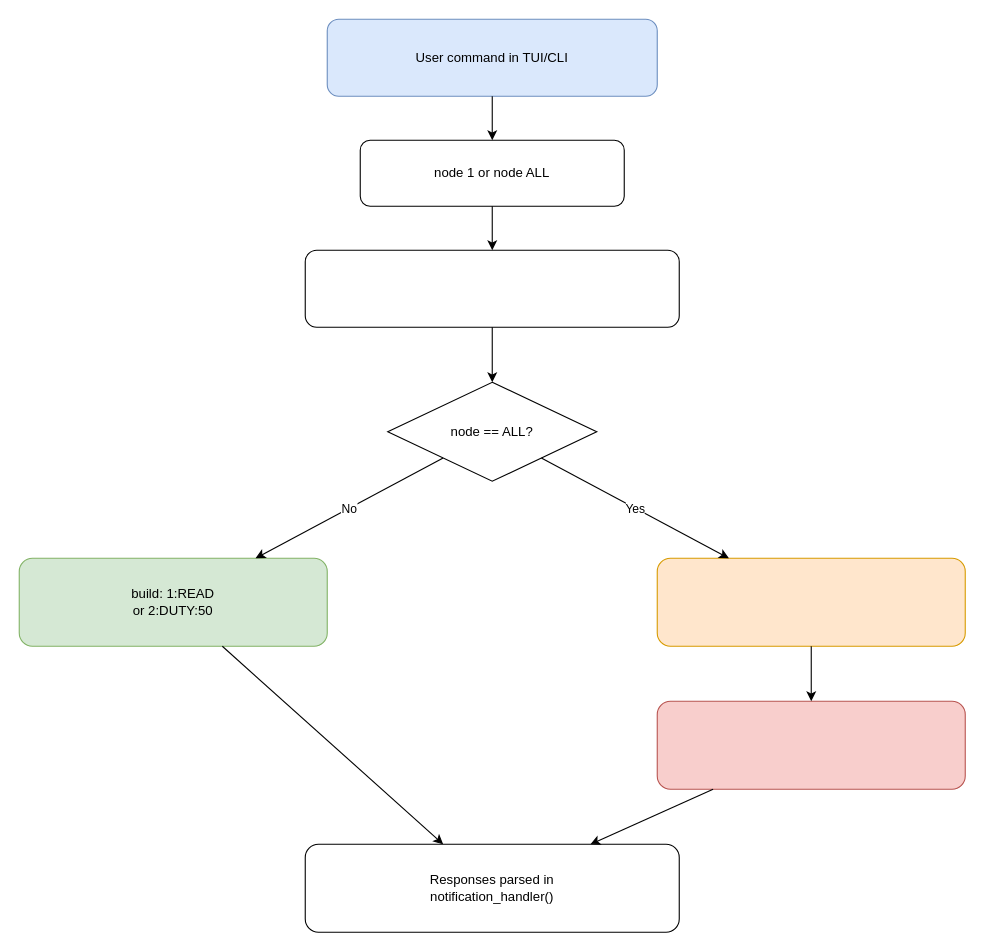
The diagram is 985 pixels wide and 952 high, and some of its shapes have lost their labels. Each missing label, with the centre of its shape:
"build: ALL:READ or ALL:DUTY:50" belongs at (x=810, y=601).
"Gateway maps ALL to group 0xC000" belongs at (x=810, y=744).
"send_to_node(node, command, value)" belongs at (x=491, y=288).
